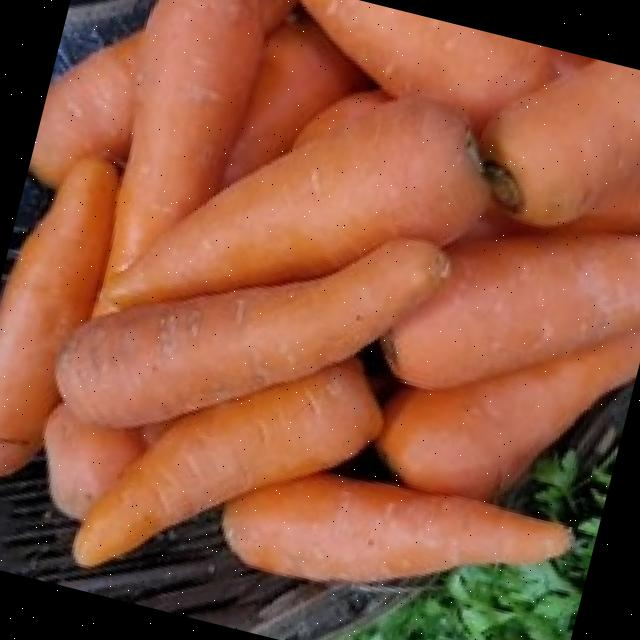carrot: (0, 0, 640, 575)
